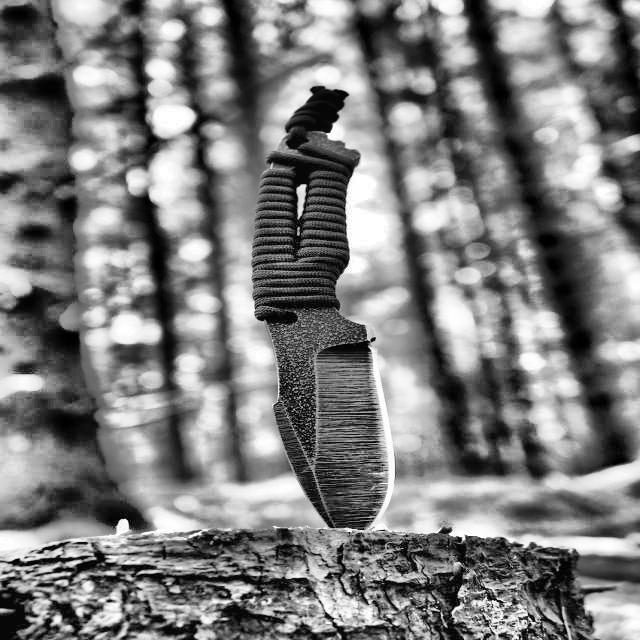knife: (251, 80, 398, 522)
